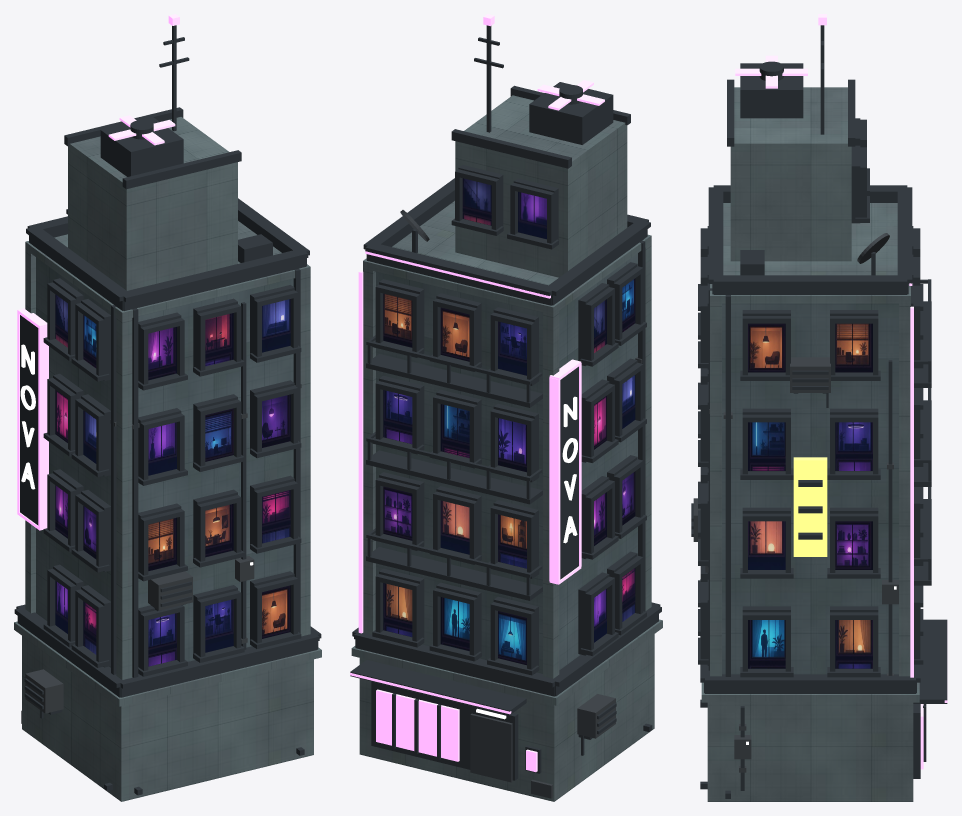
The model's file is synthwave-tower-b.glb.
The picture shows the model from 3 angles, left to right: view 1: azimuth 30°, elevation 25°; view 2: azimuth 150°, elevation 25°; view 3: azimuth 270°, elevation 25°; orthographic projection. The views are drawn at different scales.
Parts seen in each view (by area): view 1: Tower_Frame, Tower_Body2, Midrise, Tower_TowerWinArt, RK_ACUnit, Tower_NeonA, Tower_Door, Tower_NeonB, RK_RoofBox; view 2: Tower_Frame, Tower_Body2, Tower_TowerWinArt, Midrise, Tower_NeonA, Tower_Door, ShopPane, RK_ACUnit, Tower_NeonB, RK_Antenna; view 3: Tower_Body2, Tower_Frame, Midrise, Tower_TowerWinArt, SideAd, RK_ACUnit, Tower_Door, Tower_NeonA, RK_RoofBox, RK_Antenna.
Part boxes in pixels (<box>): Tower_Frame: <box>14,107,321,795</box>; Tower_Body2: <box>14,117,321,801</box>; Midrise: <box>36,257,293,667</box>; Tower_TowerWinArt: <box>55,294,290,666</box>; RK_ACUnit: <box>100,117,183,176</box>; Tower_NeonA: <box>17,308,48,530</box>; Tower_Door: <box>21,384,301,723</box>; Tower_NeonB: <box>20,344,35,489</box>; RK_RoofBox: <box>238,234,272,262</box>; Tower_Frame: <box>350,85,661,780</box>; Tower_Body2: <box>351,95,662,801</box>; Tower_TowerWinArt: <box>383,178,635,664</box>; Midrise: <box>376,253,637,673</box>; Tower_NeonA: <box>358,251,581,633</box>; Tower_Door: <box>470,357,645,798</box>; ShopPane: <box>376,689,459,761</box>; RK_ACUnit: <box>529,82,613,144</box>; Tower_NeonB: <box>562,396,577,543</box>; RK_Antenna: <box>486,25,491,132</box>; Tower_Body2: <box>701,87,919,801</box>; Tower_Frame: <box>691,79,947,798</box>; Midrise: <box>722,303,898,674</box>; Tower_TowerWinArt: <box>748,323,872,668</box>; SideAd: <box>793,457,827,556</box>; RK_ACUnit: <box>740,63,803,118</box>; Tower_Door: <box>693,357,898,772</box>; Tower_NeonA: <box>909,283,913,677</box>; RK_RoofBox: <box>740,250,764,275</box>; RK_Antenna: <box>820,25,824,134</box>.
Bounding box in the file's own units: 1.12 × 3.39 × 1.06.
Materials: 16 (3 with a texture image).
